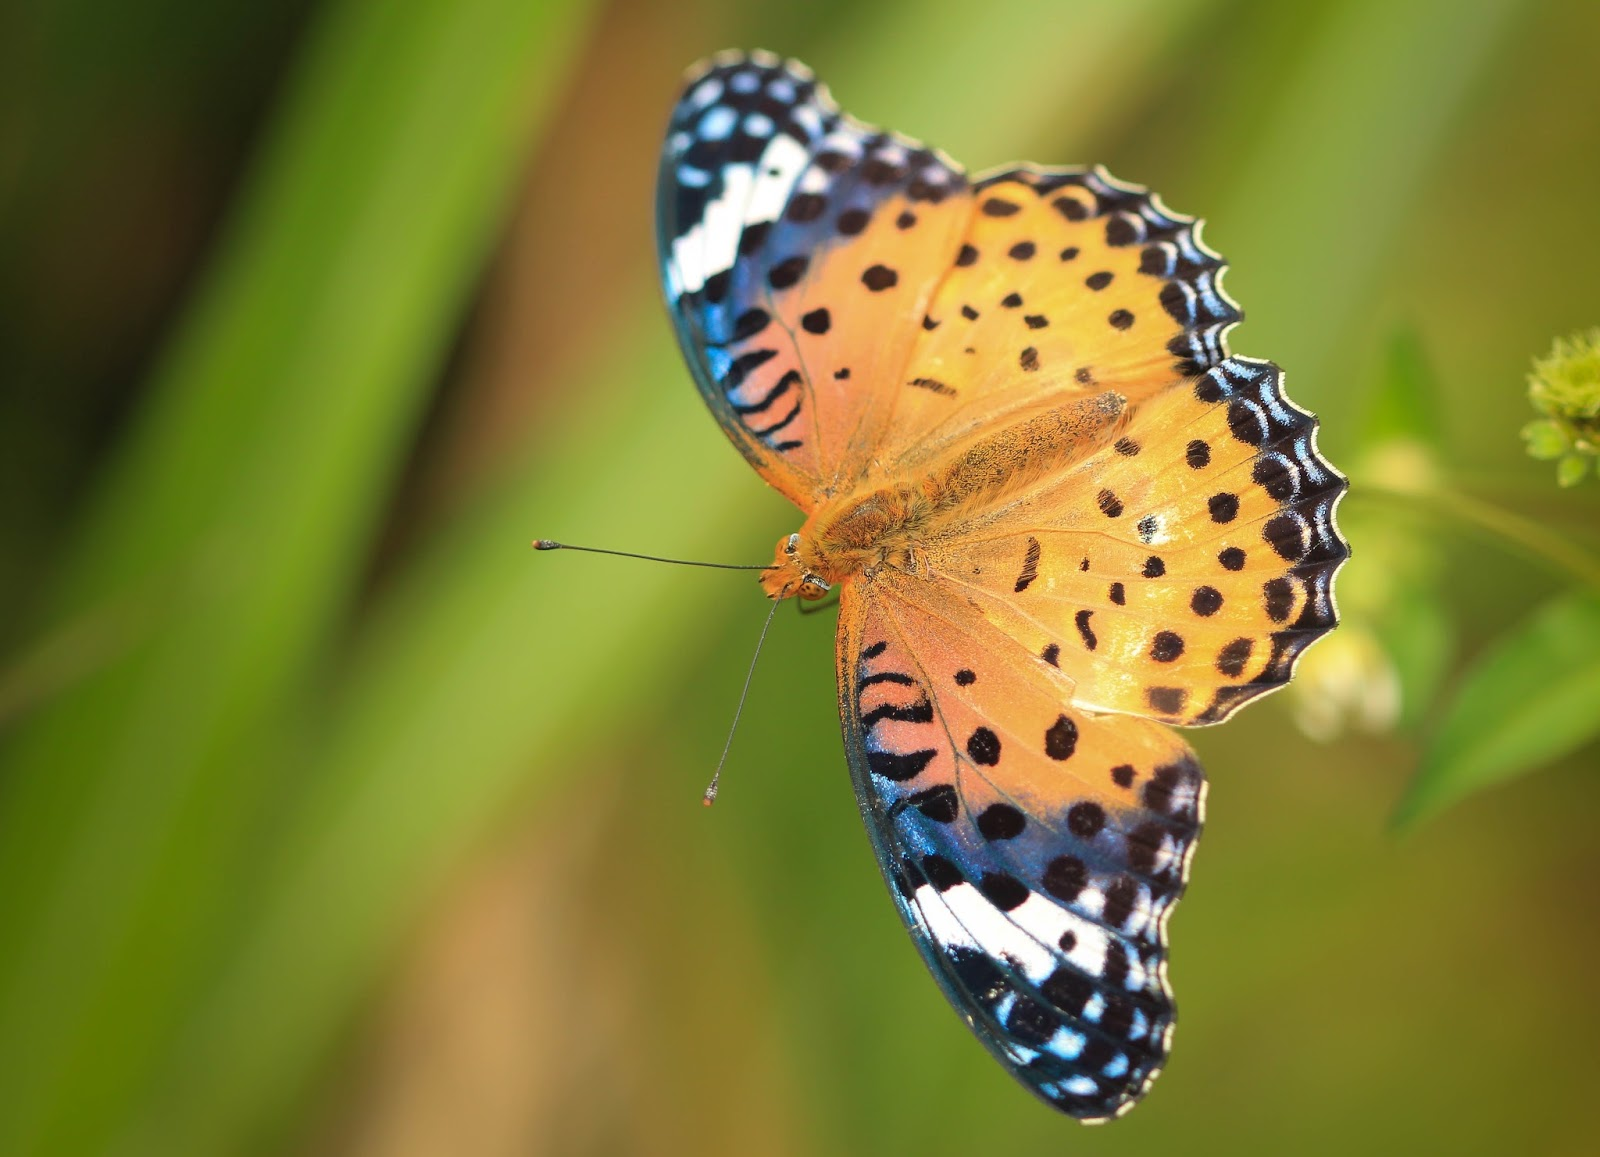Argyreus hyperbius: (513, 30, 1366, 1137)
butterfly: (516, 32, 1369, 1140)
